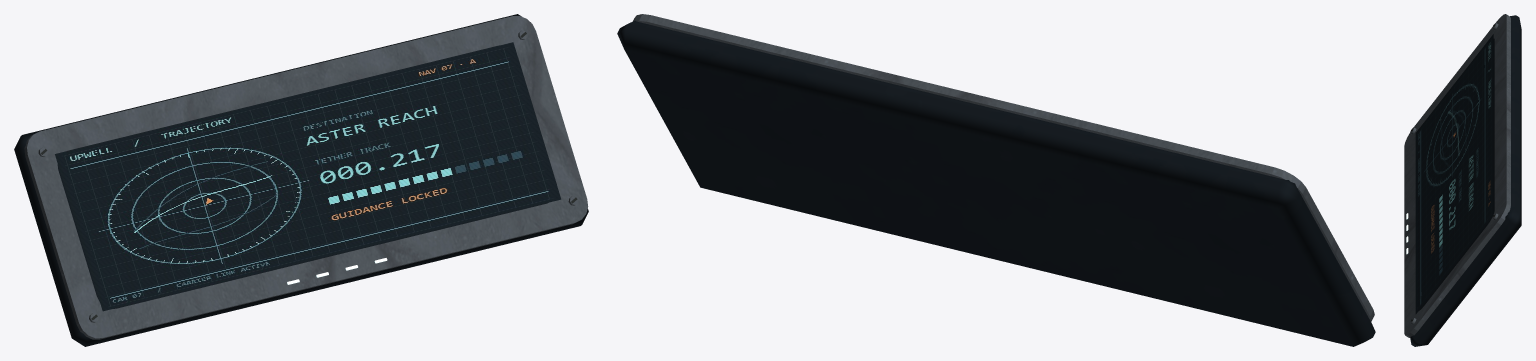
The model's file is prop_nav_screen.fbx.
3 views of the same model, side by side, from view 1: azimuth 30°, elevation 25°; view 2: azimuth 150°, elevation 25°; view 3: azimuth 270°, elevation 25° (orthographic). The views are drawn at different scales.
Parts seen in each view (by area): view 1: SM_prop_nav_screen; view 2: SM_prop_nav_screen; view 3: SM_prop_nav_screen.
Boxes of the visible parts, box(x1,y1,x2,y2) form: SM_prop_nav_screen: box(14, 14, 588, 346); SM_prop_nav_screen: box(617, 14, 1375, 346); SM_prop_nav_screen: box(1404, 14, 1521, 346).
Bounding box in the file's own units: 0.758 × 0.241 × 0.1839.
5 materials, 4 textured.
